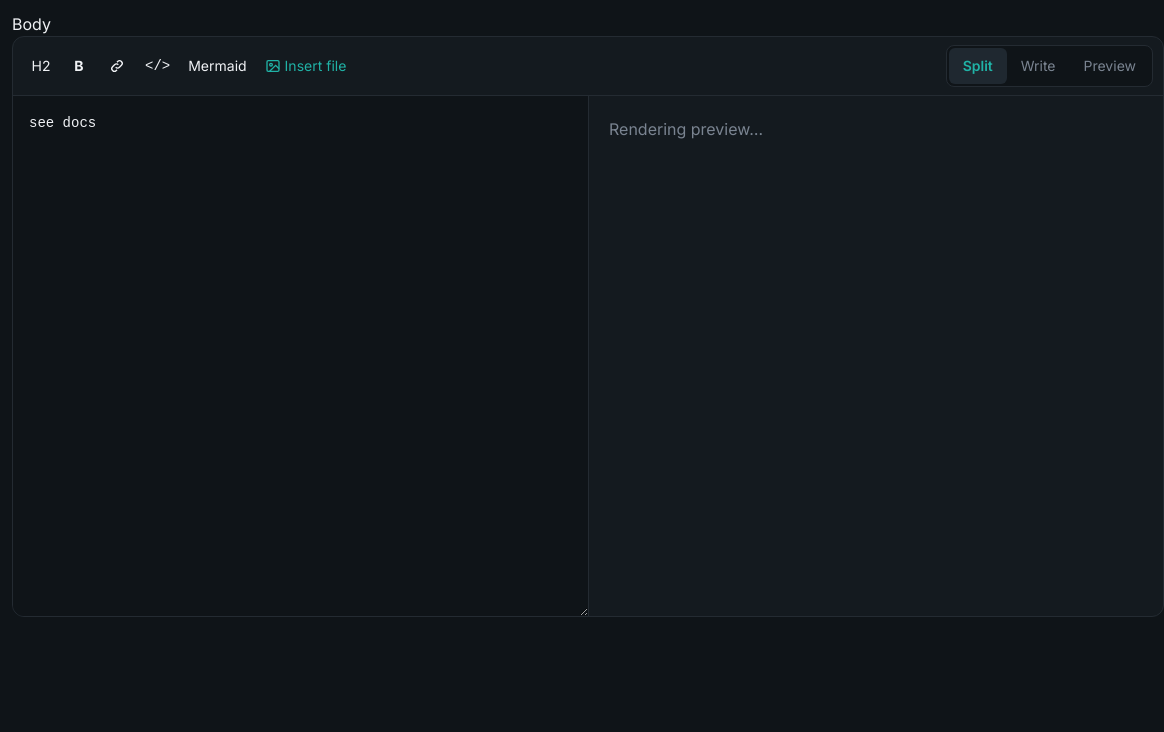
MarkdownEditor writing area › Link turns the selection into a link
This screenshot has width=1164, height=732.
What coordinates should you click on to do the following:
click the button named "Link"
I would click on:
 (117, 66)
Its box is [99,48,135,84].
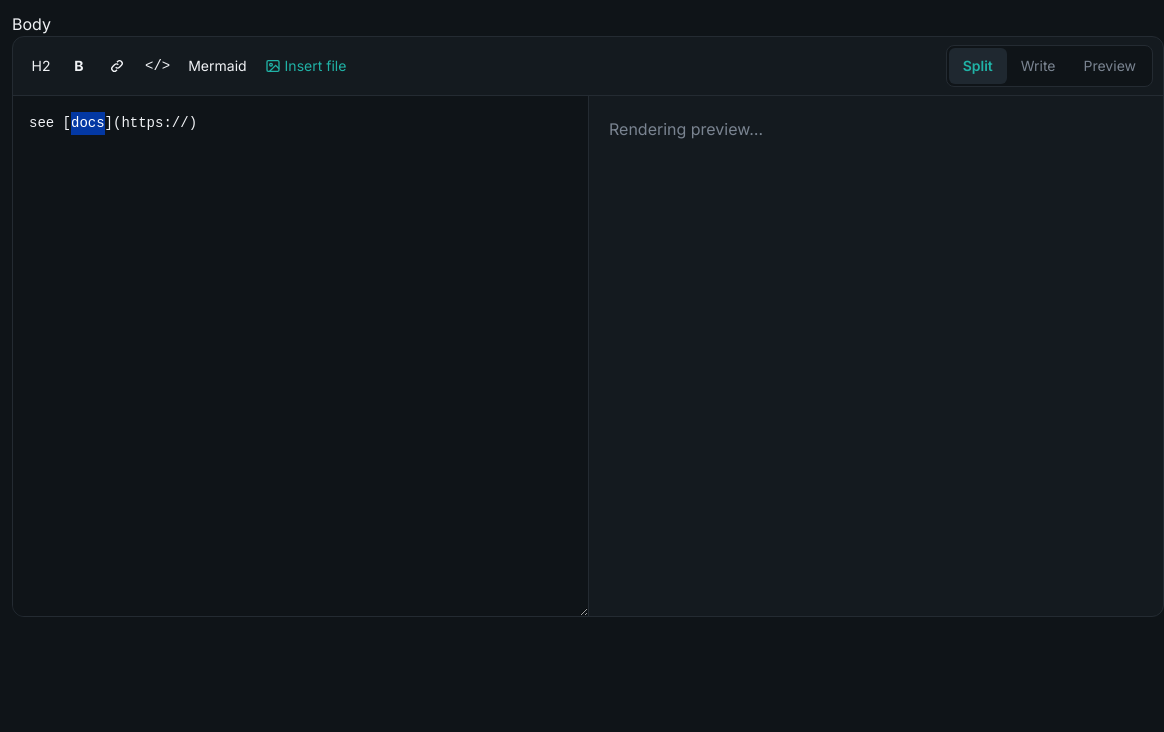
expect the text box labelled "Body" holds "see [docs](https://)": met, box [13,96,588,616]
